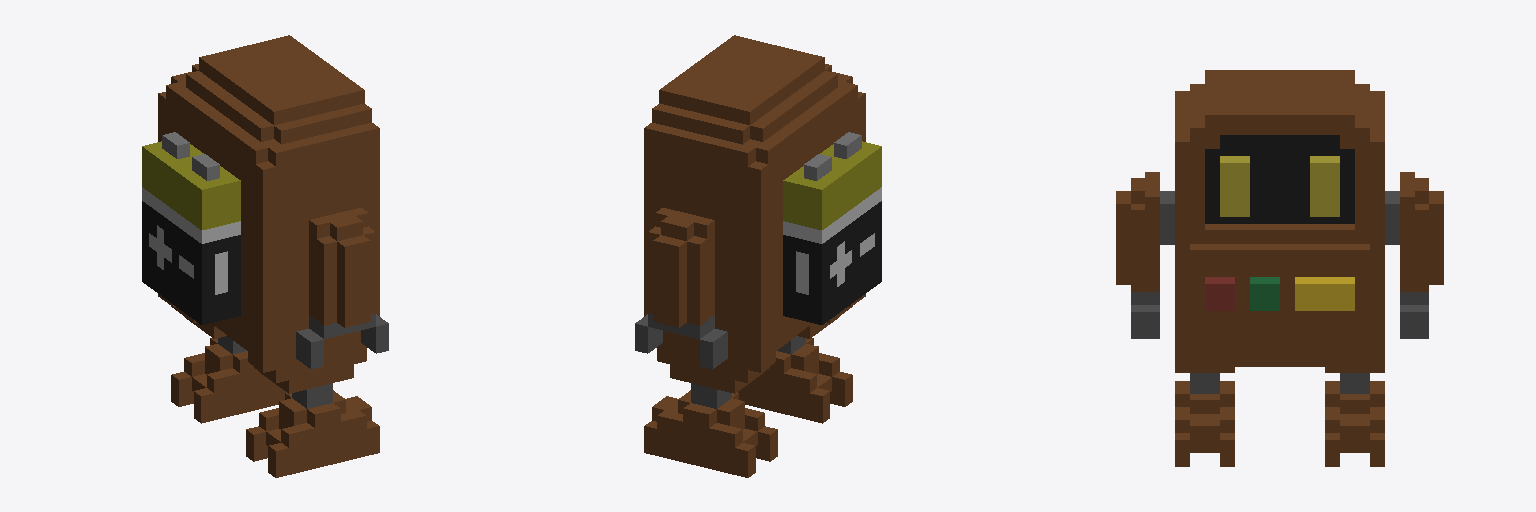
3 renders of one model, left to right at view 1: azimuth 30°, elevation 25°; view 2: azimuth 150°, elevation 25°; view 3: azimuth 270°, elevation 25°, orthographic.
Parts seen in each view (by area): view 1: object 1; view 2: object 1; view 3: object 1.
Boxes of the visible parts, <box> form: object 1: <box>142,35,388,477</box>; object 1: <box>635,35,881,477</box>; object 1: <box>1116,70,1443,466</box>.
Bounding box in the file's own units: 1.3 × 2.6 × 2.2.
Materials: 1 (1 with a texture image).